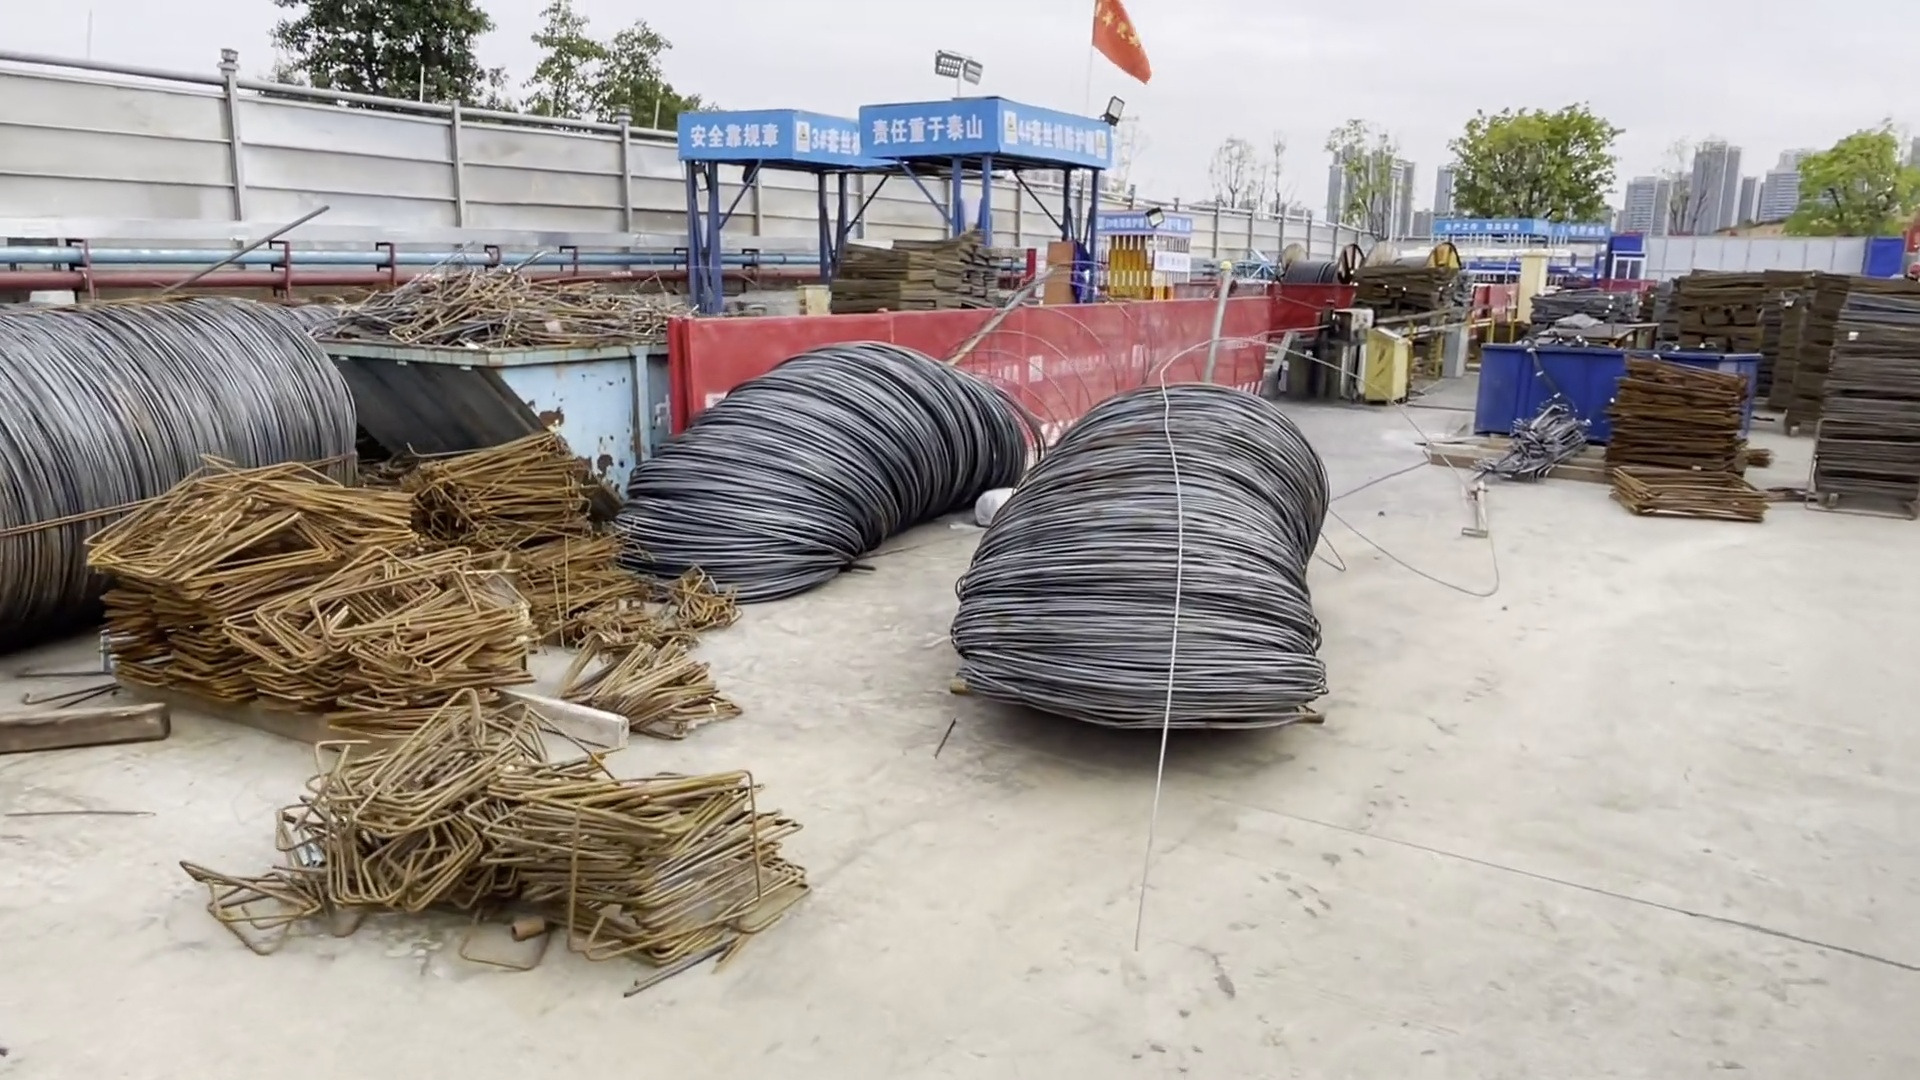ebox: (1519, 248, 1543, 320)
fence: (667, 290, 1275, 407)
helmet: (1218, 259, 1230, 268)
hopper: (322, 321, 667, 482), (1477, 341, 1730, 431)
person: (1212, 259, 1241, 294)
rebar: (1476, 416, 1583, 474)
slogan: (862, 106, 1110, 169), (684, 117, 853, 158), (1440, 218, 1596, 243), (1096, 210, 1195, 230)
